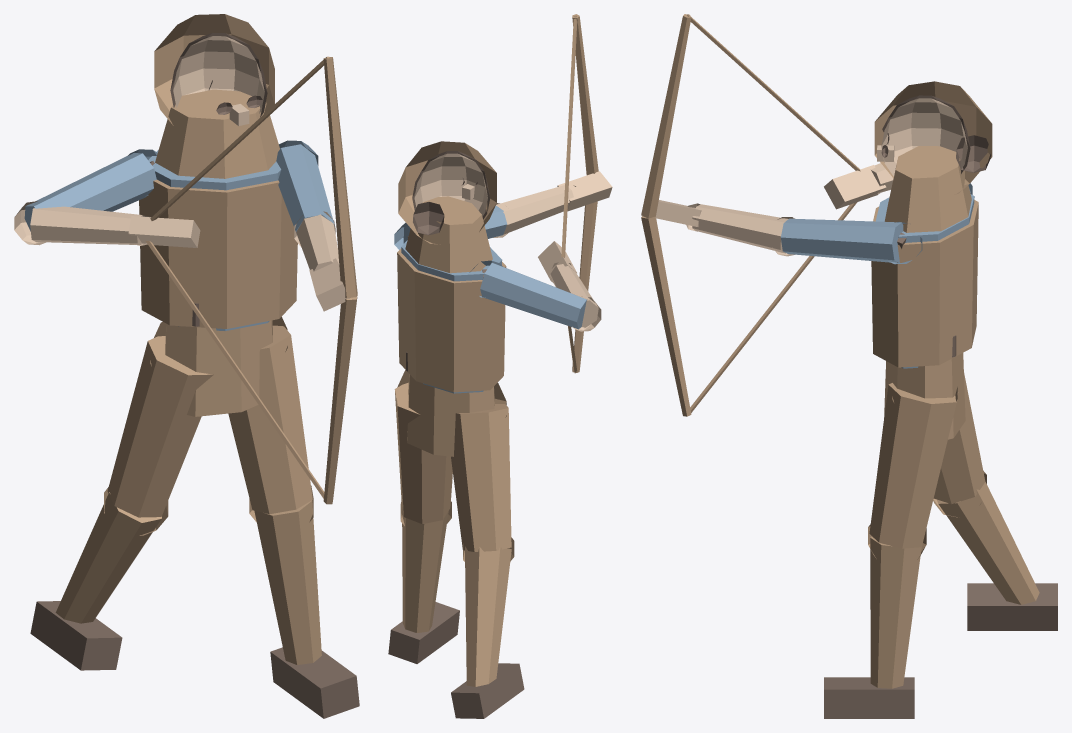
File: low-poly-character-figures-archer-drawing-fb76407c__36374.glb
3 views of the same model, side by side, from view 1: azimuth 30°, elevation 25°; view 2: azimuth 150°, elevation 25°; view 3: azimuth 270°, elevation 25° (orthographic). The views are drawn at different scales.
Visible parts, largest first — view 1: archer-drawing; view 2: archer-drawing; view 3: archer-drawing.
Part boxes in pixels (left/top/right/bottom): archer-drawing: left=14, top=14, right=359, bottom=718; archer-drawing: left=388, top=14, right=612, bottom=718; archer-drawing: left=641, top=14, right=1057, bottom=718.
Size of the model in its own units: 0.774 by 1.97 by 1.13.
